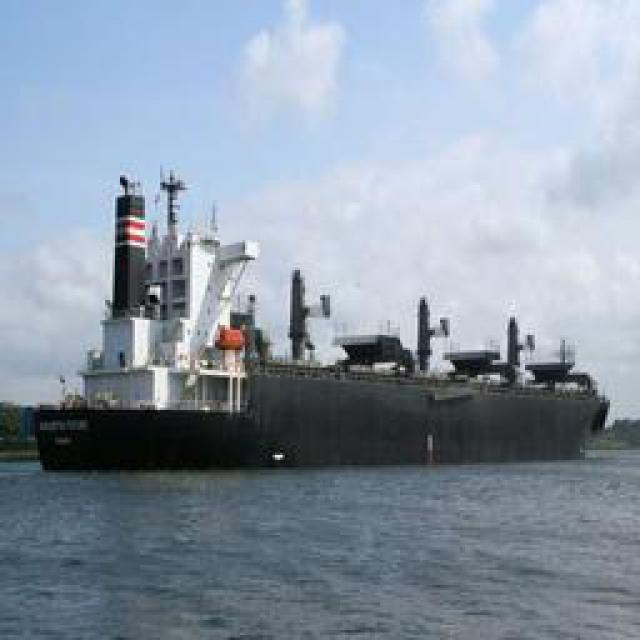Ship: (39, 160, 613, 477)
